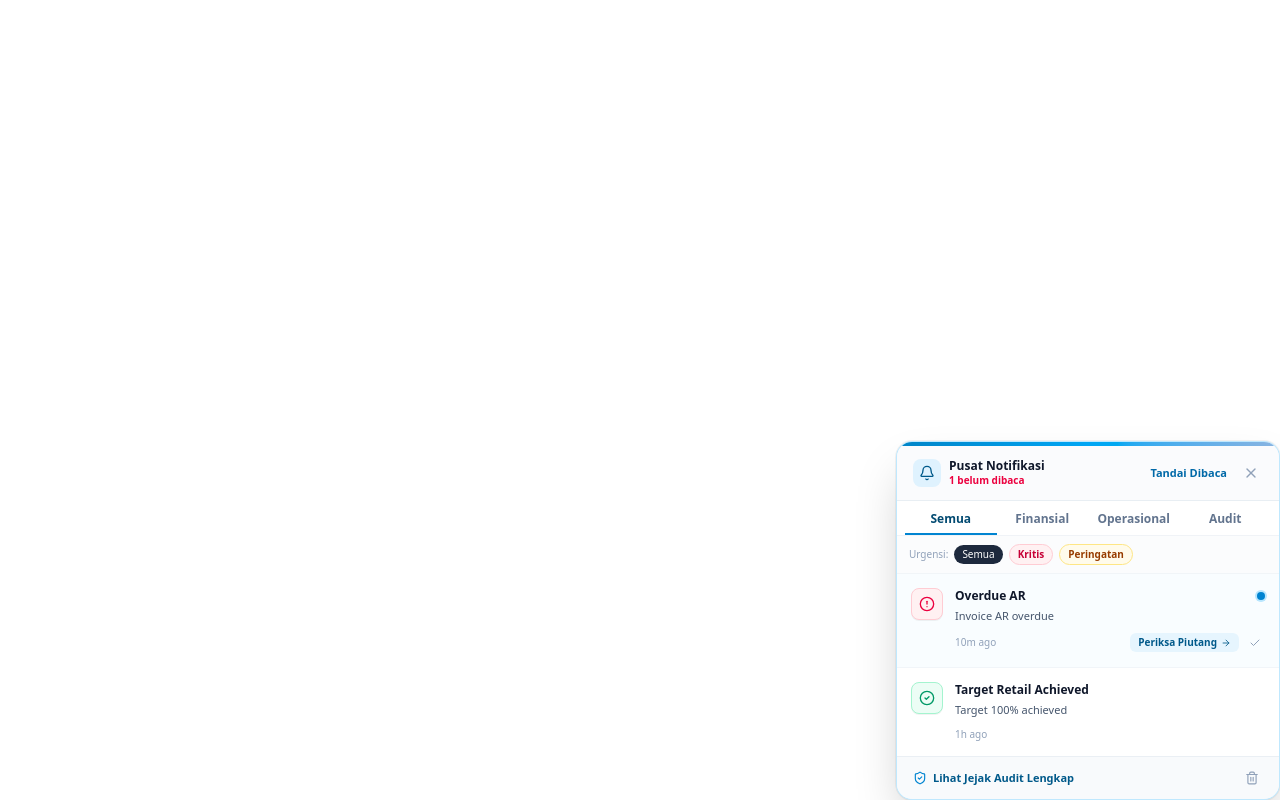
Test case: Smart Notification Center & Audit Trail Tests › NotificationPopover Component › filters notifications by category tab
This screenshot has width=1280, height=800.
(page scrolled)
Expected: the text "Overdue AR" is shown, 955,588 -> 1026,603
Expected: the text "Target Retail Achieved" is shown, 955,682 -> 1089,697
# Click Tab Finansial
Click the button with test id "notif-tab-financial" at point(1042, 520), box 996,505 -> 1088,535
(page scrolled)
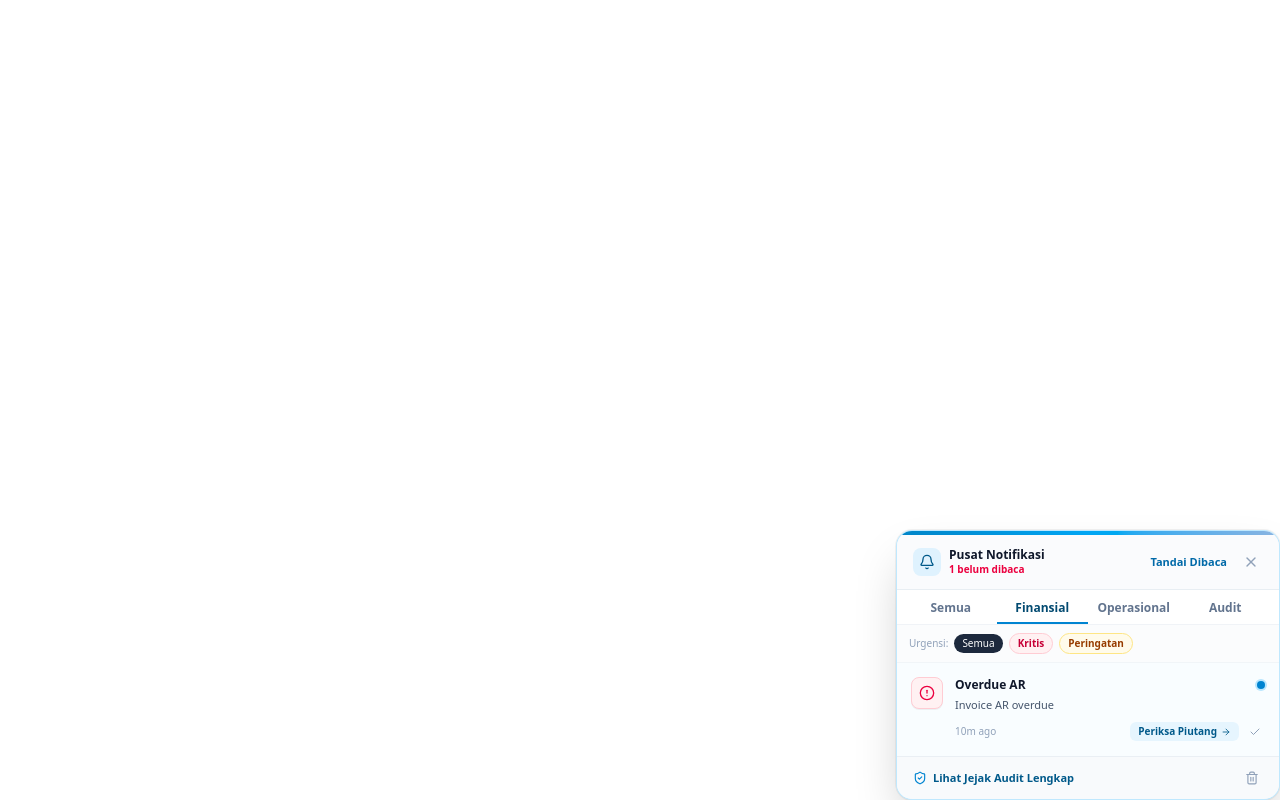
Expected: the text "Overdue AR" is shown, 955,677 -> 1026,692
Expected: the text "Target Retail Achieved" is gone
# Click Tab Operasional
Click the button with test id "notif-tab-operational" at point(1134, 609), box 1088,594 -> 1180,624
(page scrolled)
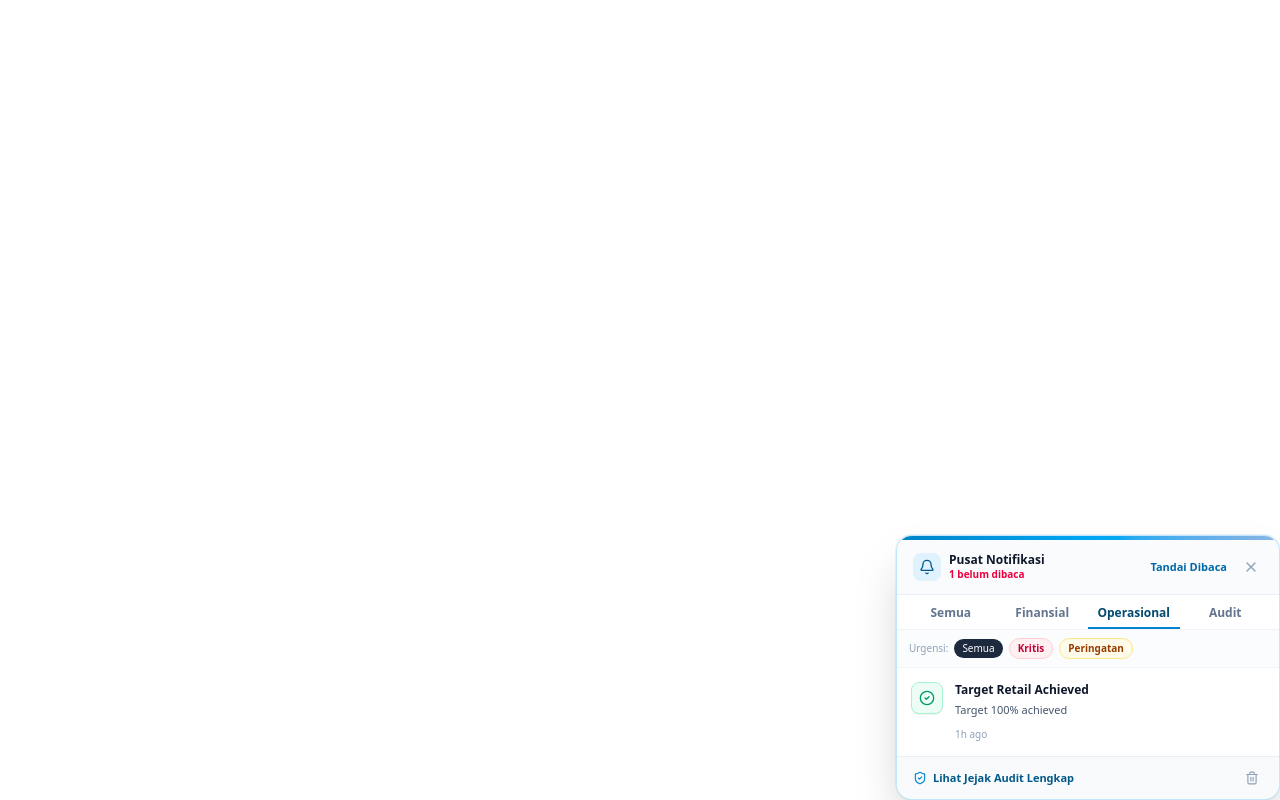
Expected: the text "Overdue AR" is gone
Expected: the text "Target Retail Achieved" is shown, 955,682 -> 1089,697
